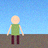person: (7, 15, 23, 44)
